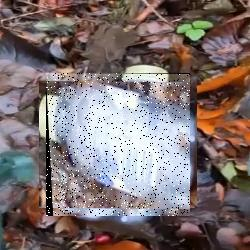plastic: (46, 73, 190, 216)
